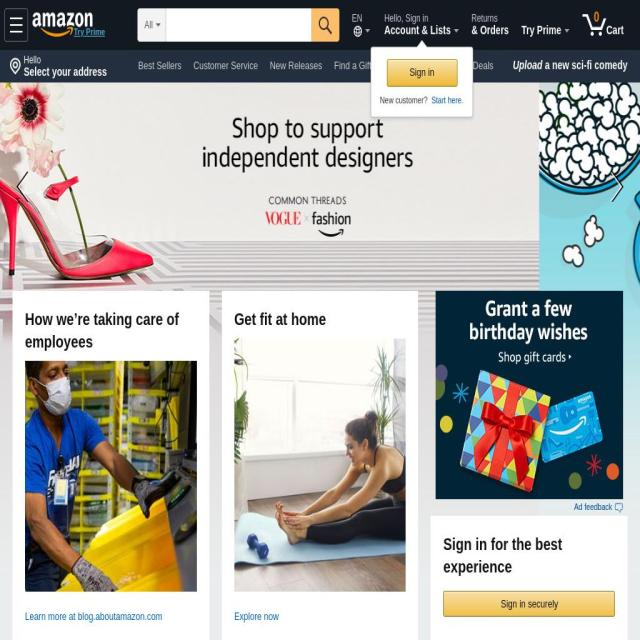button: (234, 338, 406, 592), (25, 360, 197, 592), (0, 82, 50, 291), (590, 82, 640, 291), (443, 591, 616, 617), (33, 4, 133, 46), (444, 592, 615, 616), (378, 5, 465, 47), (7, 51, 114, 83), (25, 608, 197, 624), (234, 608, 406, 624), (508, 55, 632, 77), (576, 5, 638, 47), (5, 8, 90, 38), (516, 5, 575, 47), (466, 5, 515, 47), (387, 59, 458, 87), (314, 92, 398, 113), (188, 55, 263, 77), (342, 5, 377, 47), (133, 128, 199, 150), (264, 55, 328, 77), (223, 92, 288, 113), (438, 55, 499, 77), (378, 55, 437, 77), (444, 92, 504, 113), (133, 55, 187, 77), (329, 55, 377, 77), (133, 92, 180, 113), (399, 92, 442, 113), (181, 92, 222, 113), (4, 8, 28, 42), (574, 502, 623, 513), (288, 92, 312, 113), (74, 28, 105, 36)
field: (166, 9, 312, 41), (310, 8, 340, 42)
heading: (443, 532, 616, 578), (25, 308, 197, 352), (234, 308, 406, 330)
iframe: (435, 291, 623, 499)
image: (234, 338, 406, 592), (24, 360, 197, 592), (33, 12, 93, 38), (582, 14, 606, 36), (8, 57, 22, 76), (10, 18, 22, 32), (352, 25, 362, 37), (614, 502, 623, 512)
link: (14, 165, 36, 208), (604, 165, 626, 208), (512, 58, 542, 72), (432, 95, 464, 105)
text: (387, 60, 457, 85), (24, 66, 114, 82), (542, 58, 628, 72), (384, 23, 451, 37), (471, 24, 515, 41), (521, 23, 562, 37), (384, 13, 434, 24), (380, 95, 430, 105), (574, 502, 614, 512), (471, 13, 504, 24), (24, 54, 48, 66), (144, 12, 154, 39), (606, 23, 624, 37), (318, 17, 332, 34), (352, 13, 362, 24)
